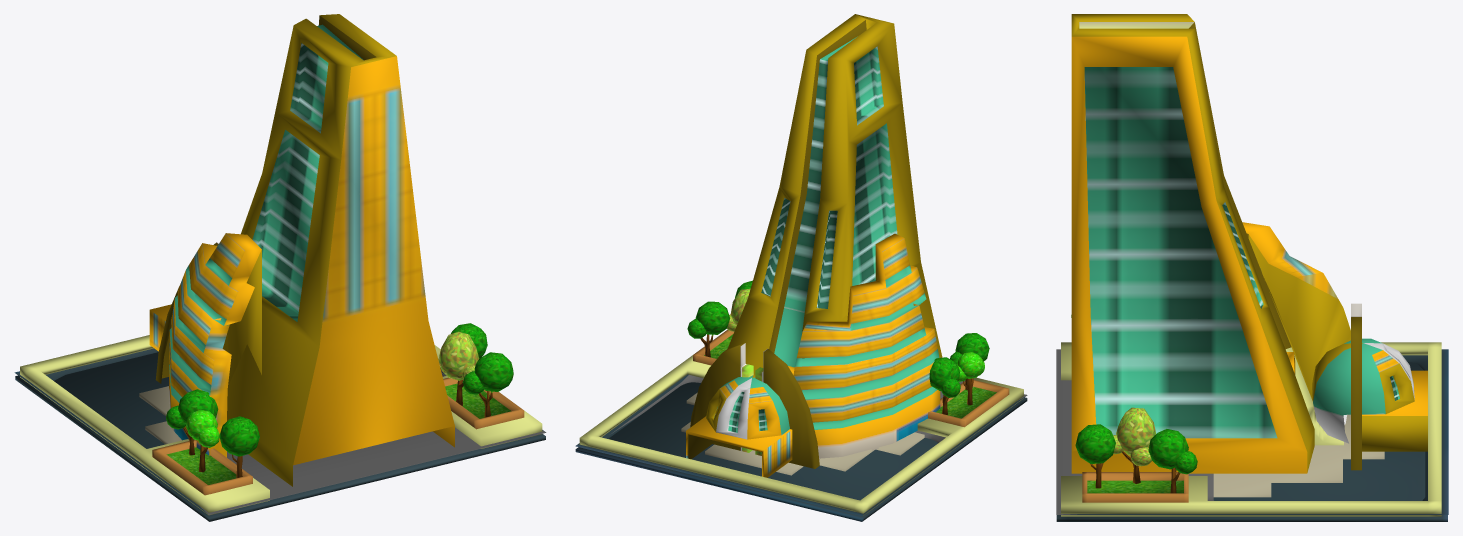
File: brokerage_LV2.fbx
3 views of the same model, side by side, from view 1: azimuth 30°, elevation 25°; view 2: azimuth 150°, elevation 25°; view 3: azimuth 270°, elevation 25° (orthographic). The views are drawn at different scales.
Visible parts, largest first — view 1: brokerage lv 2; view 2: brokerage lv 2; view 3: brokerage lv 2.
Boxes of the visible parts, left/top/right/bottom form: brokerage lv 2: left=14, top=14, right=546, bottom=521; brokerage lv 2: left=575, top=14, right=1027, bottom=521; brokerage lv 2: left=1056, top=14, right=1448, bottom=521.
Bounding box in the file's own units: 100 × 117 × 100.
